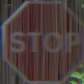Stop: (5, 3, 79, 72)
